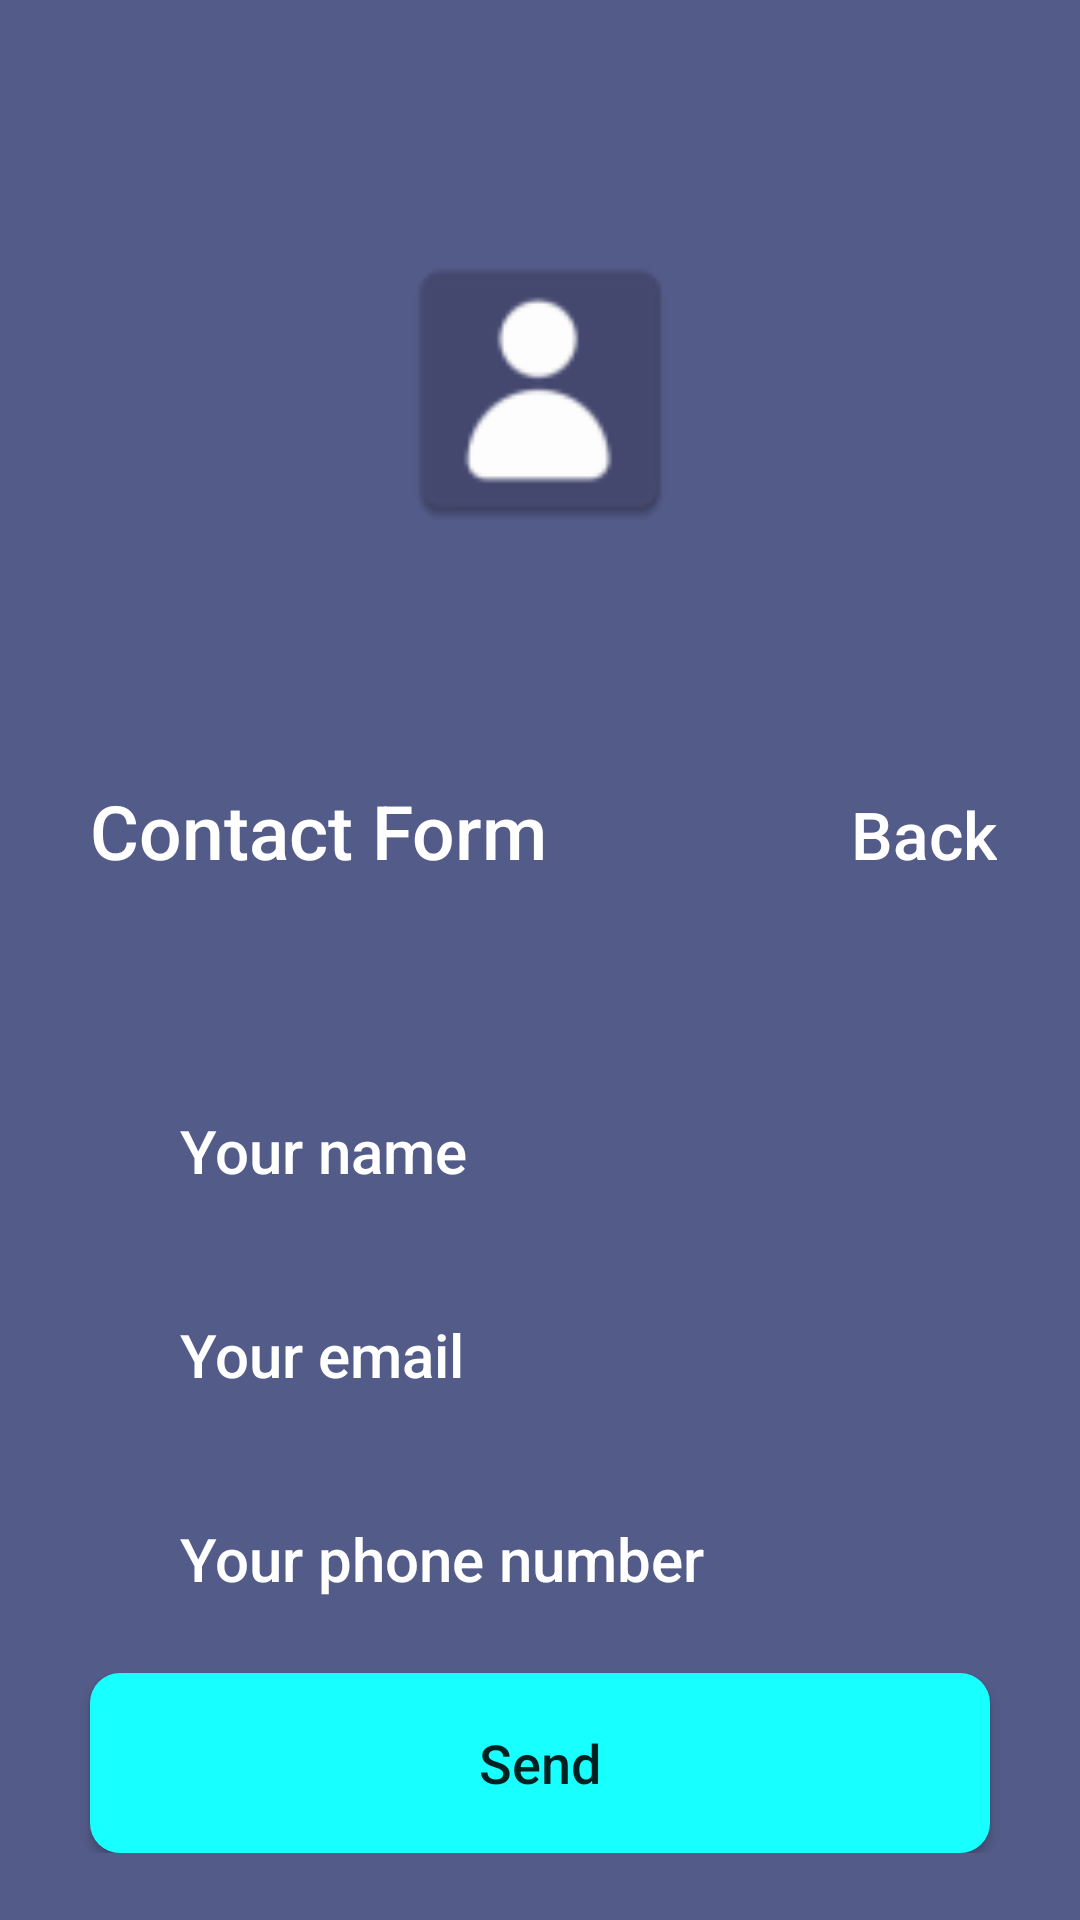

Icon click points for this 1080*1920 phone screenshot, format (x,y):
contac: (541,394)
